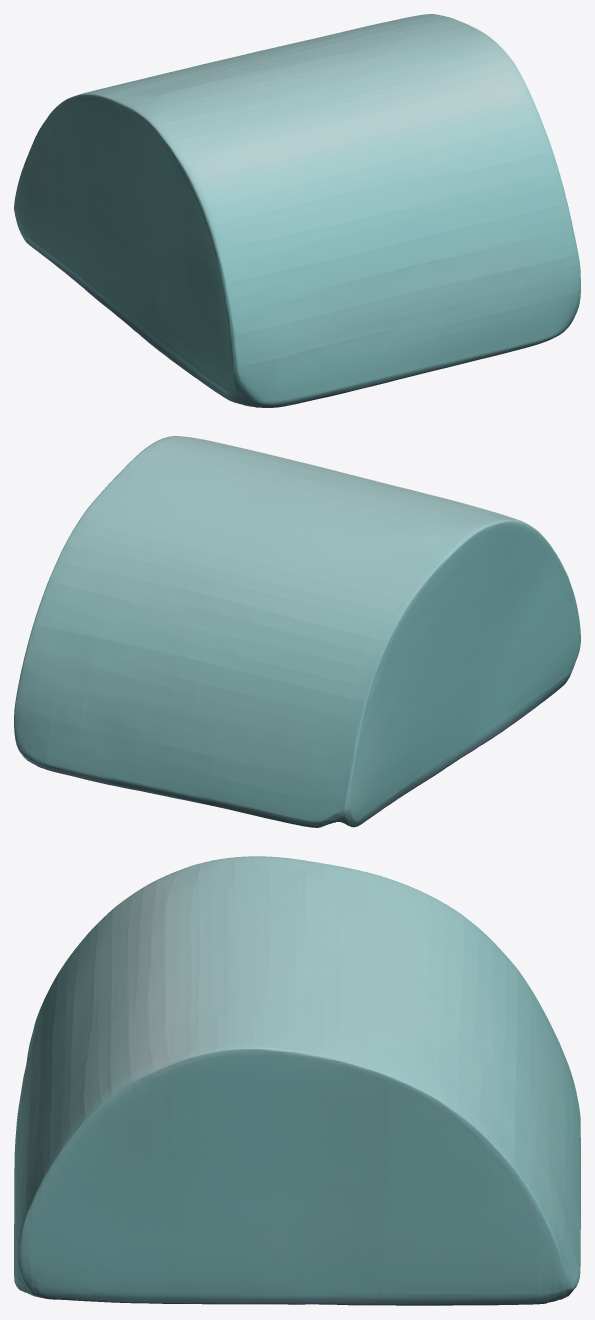
The model's file is obj3_sam3d_obb.glb.
3 views of the same model, one above another, from view 1: azimuth 30°, elevation 25°; view 2: azimuth 150°, elevation 25°; view 3: azimuth 270°, elevation 25° (orthographic). The views are drawn at different scales.
Parts seen in each view (by area): view 1: world; view 2: world; view 3: world.
Part boxes in pixels (x1,y1,x2,y2): world: (14,14,580,407); world: (14,436,580,827); world: (14,856,580,1305).
Bounding box in the file's own units: 0.0281 × 0.0172 × 0.0332.
